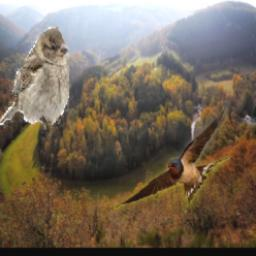Sparrow: (0, 28, 69, 138)
Swallow: (115, 100, 231, 216)
